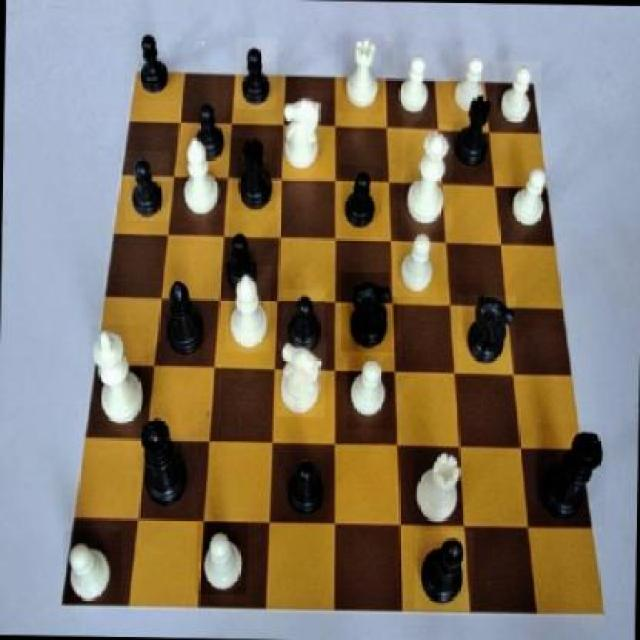bishop: (414, 531, 473, 611), (160, 268, 207, 368)
black-bishop: (537, 423, 608, 526)
black-king: (456, 295, 514, 378), (340, 272, 397, 353)
black-knight: (277, 451, 330, 521), (132, 20, 177, 100), (217, 225, 261, 300), (339, 165, 383, 238), (282, 290, 326, 362), (186, 94, 231, 164), (126, 151, 171, 221), (235, 37, 278, 110)
black-pawn: (132, 409, 193, 514)
black-queen: (448, 86, 498, 174), (232, 138, 277, 212)
black-rook: (175, 134, 222, 224), (224, 265, 270, 352)
white-bishop: (88, 325, 148, 429)
white-king: (280, 89, 329, 176), (276, 338, 326, 418)
white-knight: (61, 530, 120, 604), (506, 158, 557, 238), (197, 522, 249, 596), (392, 48, 438, 127), (389, 225, 438, 297), (348, 355, 394, 431), (494, 61, 541, 132), (449, 48, 494, 120)
white-pawn: (400, 125, 453, 232)
white-queen: (408, 449, 464, 527), (334, 32, 384, 113)
